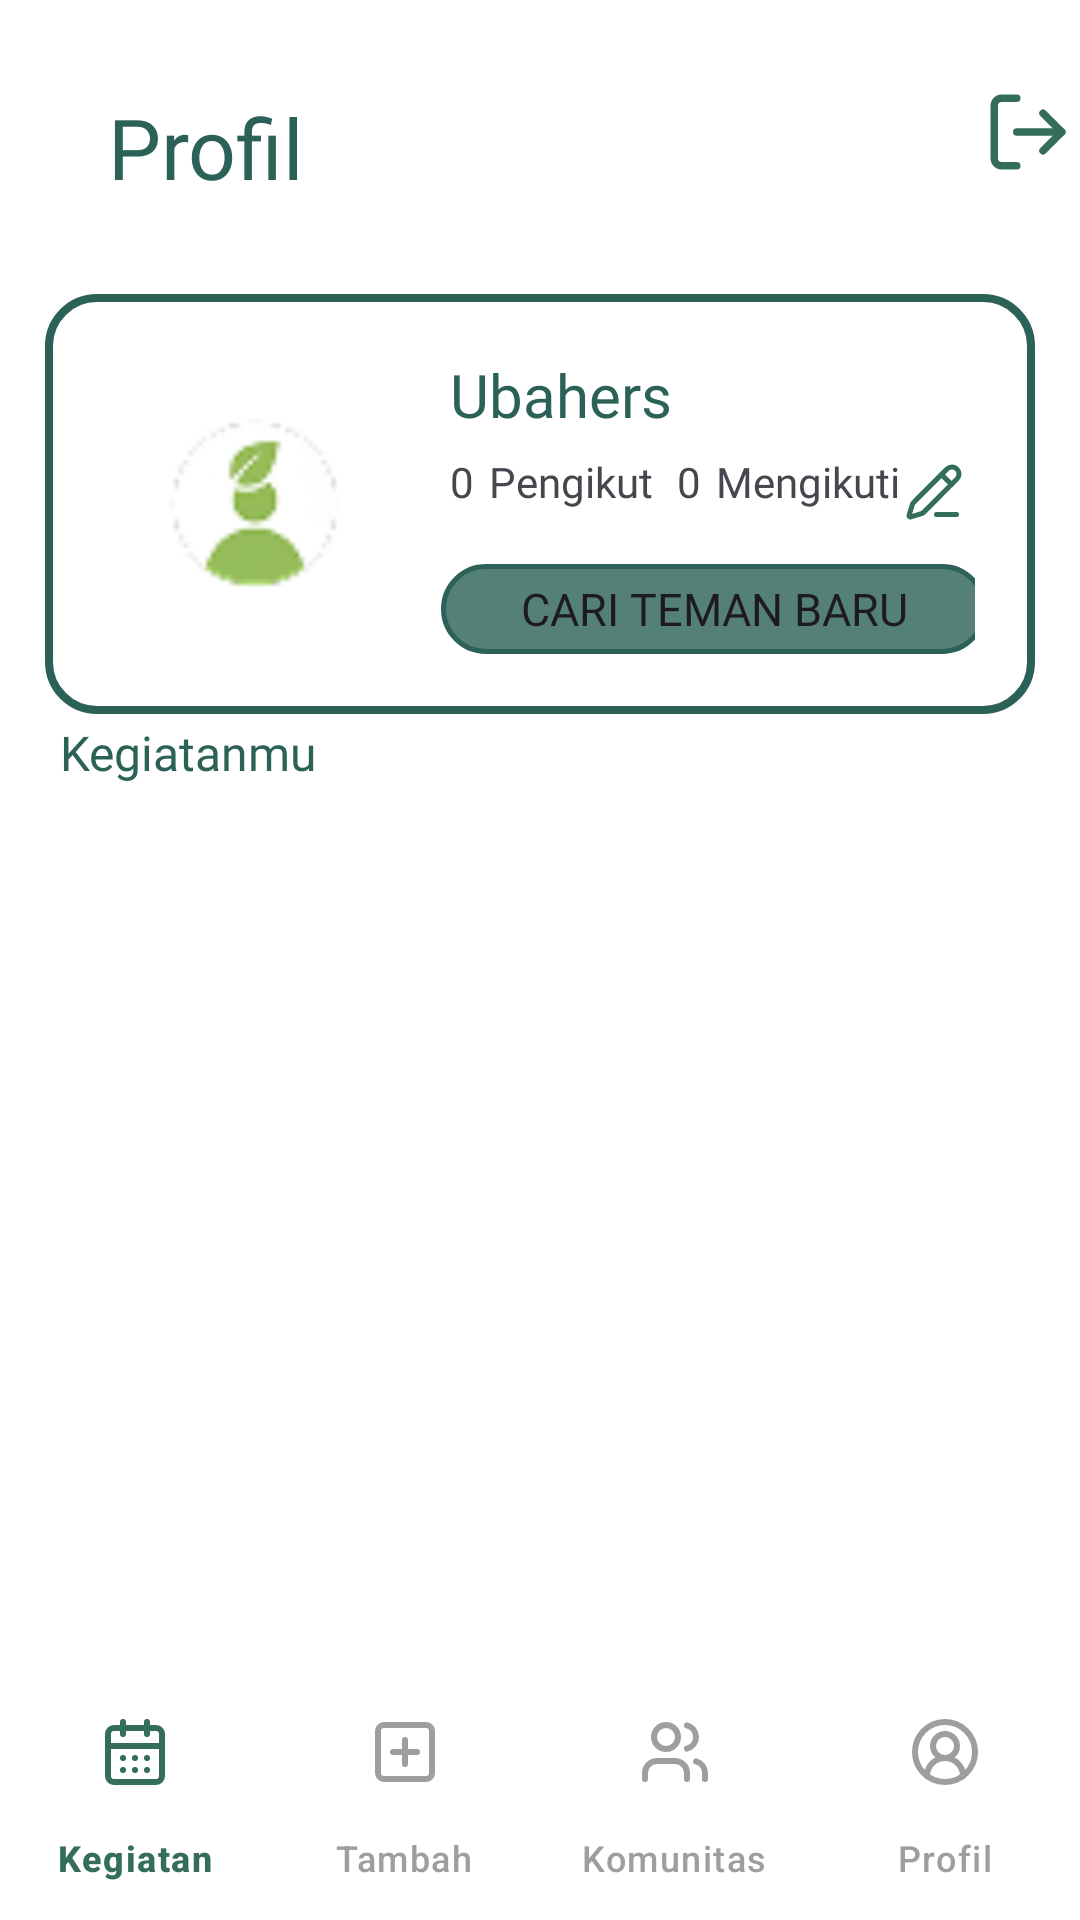

Screen size 1080×1920. Icon name, then its center in pixels as point (x, y):
edit profile: point (934, 492)
